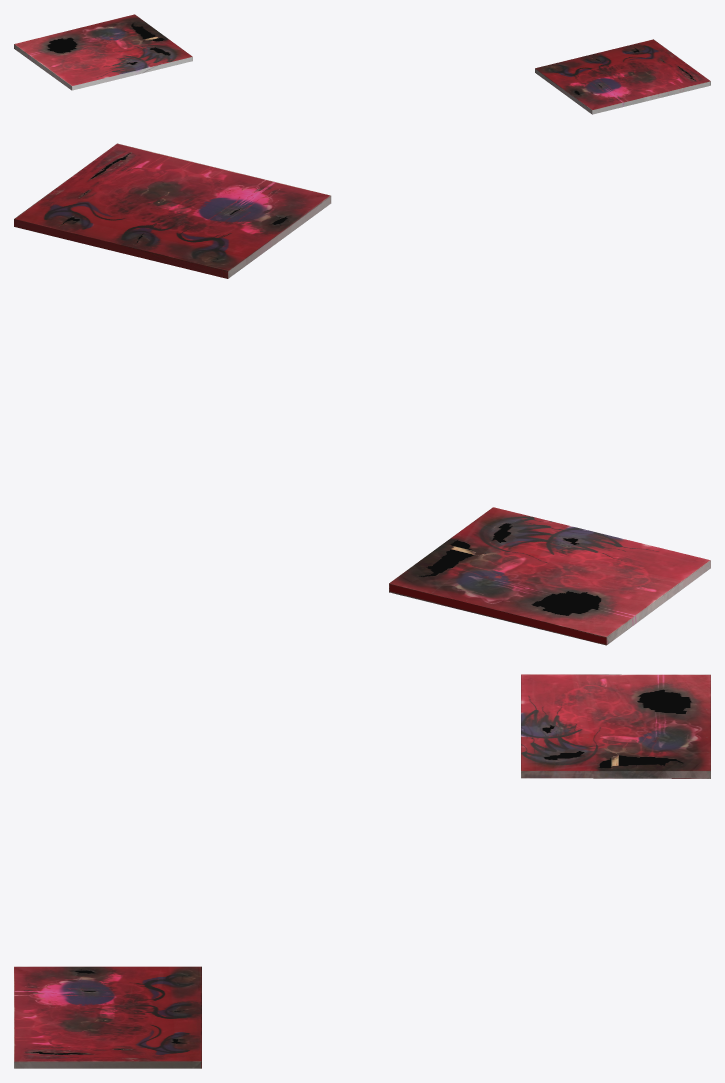
Rendered from FireBilds2.glb.
The picture shows the model from 3 angles, top to bottom: view 1: azimuth 30°, elevation 25°; view 2: azimuth 150°, elevation 25°; view 3: azimuth 270°, elevation 25°; orthographic projection. The views are drawn at different scales.
Parts seen in each view (by area): view 1: Bild1_Retopo, Bild3; view 2: Bild1_Retopo, Bild3; view 3: Bild1_Retopo, Bild3.
Part boxes in pixels (bbox=[...]): Bild1_Retopo: bbox=[14, 14, 192, 90]; Bild3: bbox=[535, 39, 710, 114]; Bild1_Retopo: bbox=[389, 507, 710, 645]; Bild3: bbox=[14, 143, 331, 278]; Bild1_Retopo: bbox=[521, 674, 710, 778]; Bild3: bbox=[14, 966, 201, 1068].
Bounding box in the file's own units: 299 × 2.91 × 228.
Materials: 2 (2 with a texture image).
